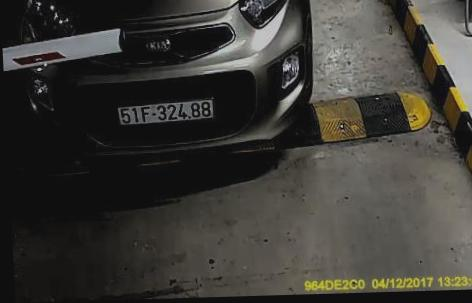License_Plate: (115, 97, 219, 123)
